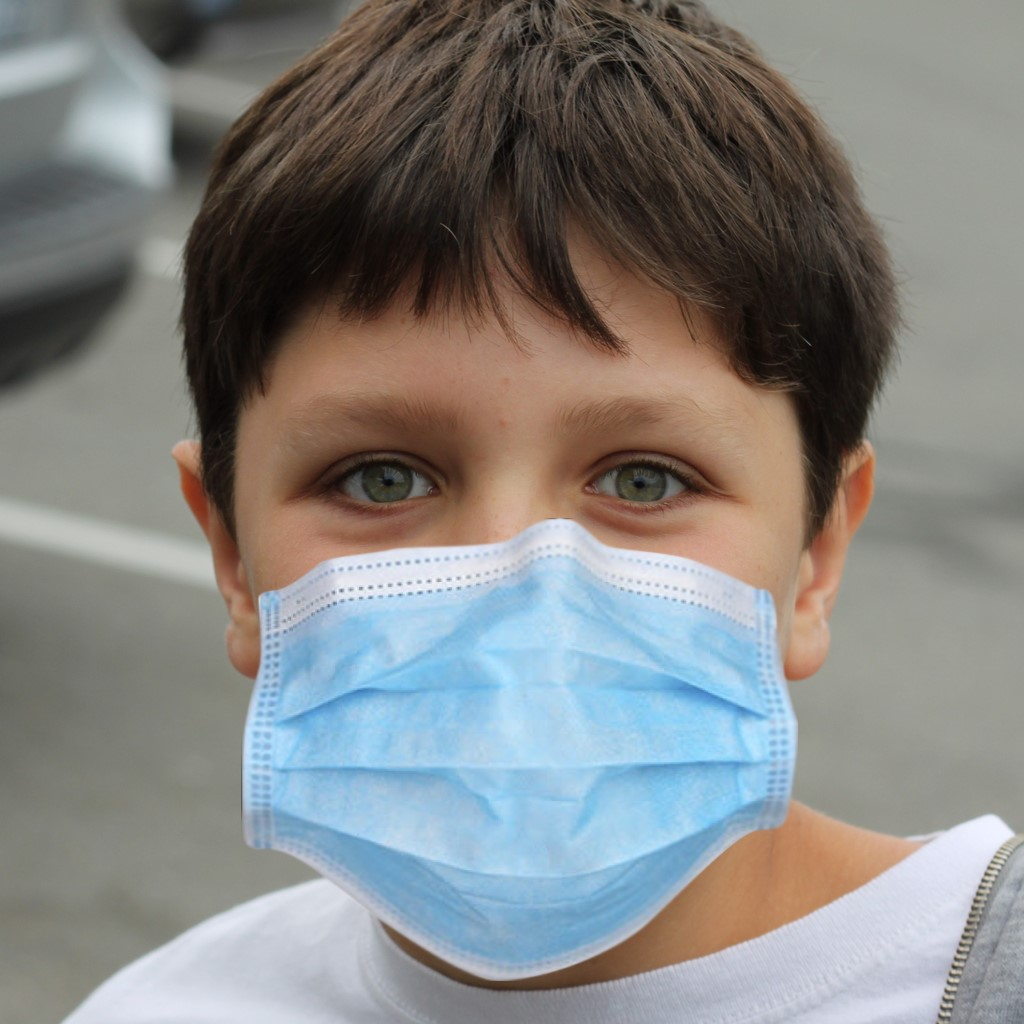con_mascara: (221, 154, 827, 962)
